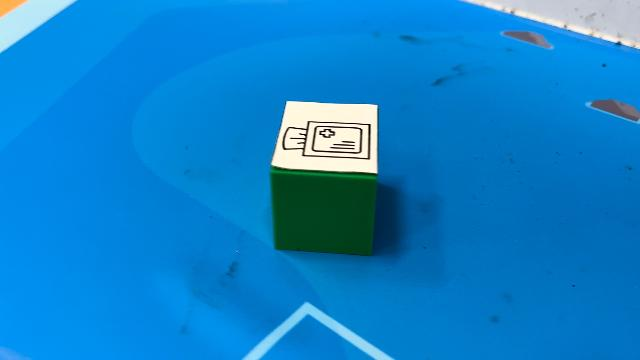napkin: (268, 99, 380, 257)
